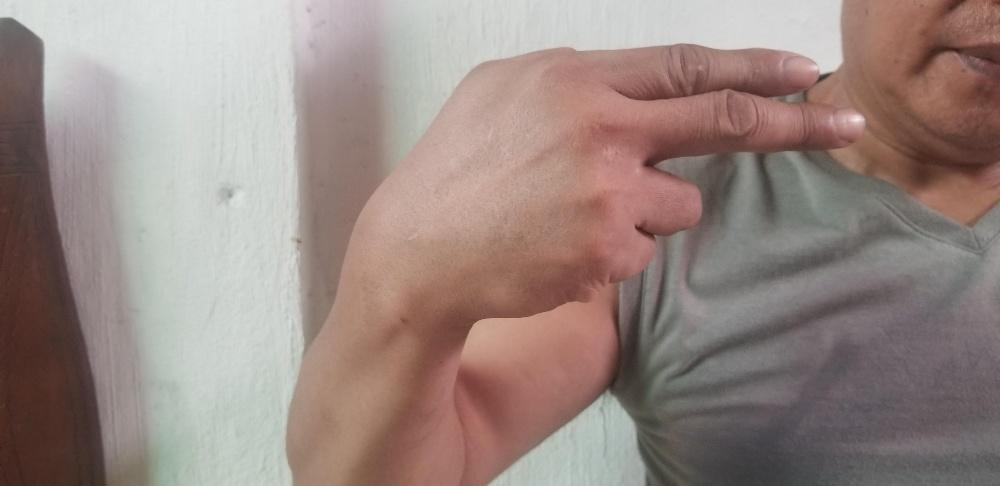h: (383, 41, 866, 319)
